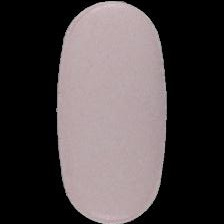16590-282: (0, 0, 224, 224)
